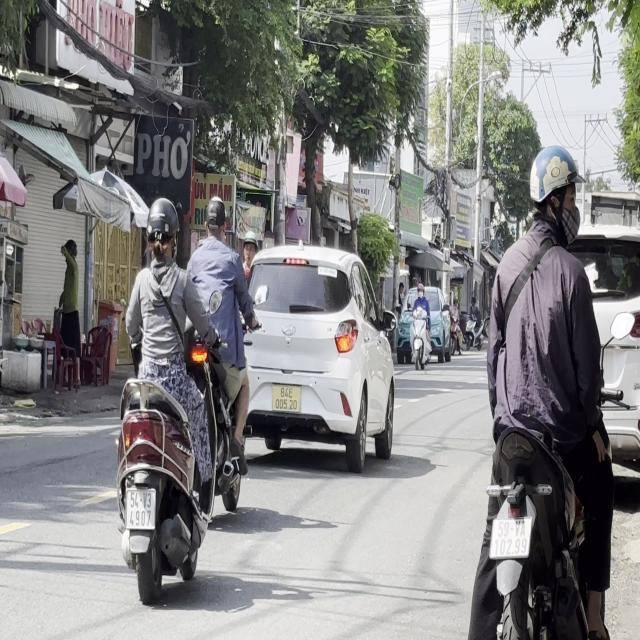helmet: (528, 142, 580, 238), (144, 196, 180, 264)
licenseplate: (465, 135, 625, 635), (109, 194, 218, 604), (181, 192, 256, 518)
motorcyclist: (204, 195, 227, 241)
nohelmet: (490, 516, 530, 558), (126, 486, 156, 528)
